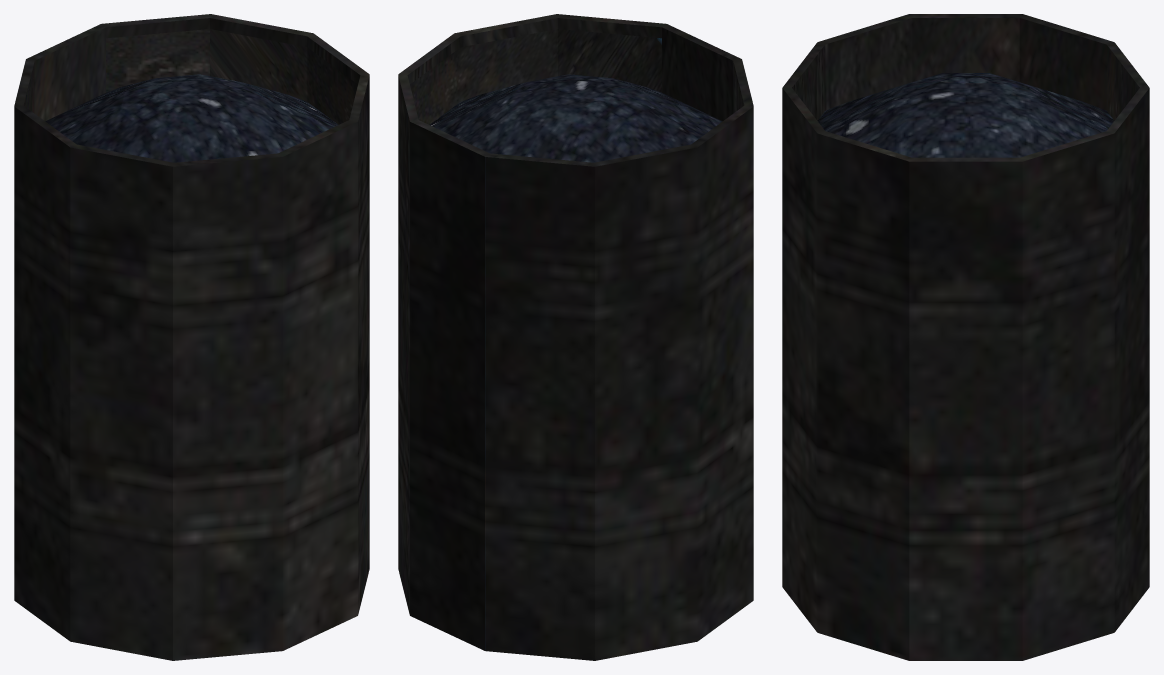
Rendered from SM_Barrel_04.fbx.
3 renders of one model, left to right at view 1: azimuth 30°, elevation 25°; view 2: azimuth 150°, elevation 25°; view 3: azimuth 270°, elevation 25°, orthographic.
Parts seen in each view (by area): view 1: SM_Barrel_04; view 2: SM_Barrel_04; view 3: SM_Barrel_04.
Part boxes in pixels (left/top/right/bottom): SM_Barrel_04: left=14, top=14, right=369, bottom=660; SM_Barrel_04: left=398, top=14, right=753, bottom=660; SM_Barrel_04: left=782, top=14, right=1149, bottom=660.
Size of the model in its own units: 114 by 180 by 120.
